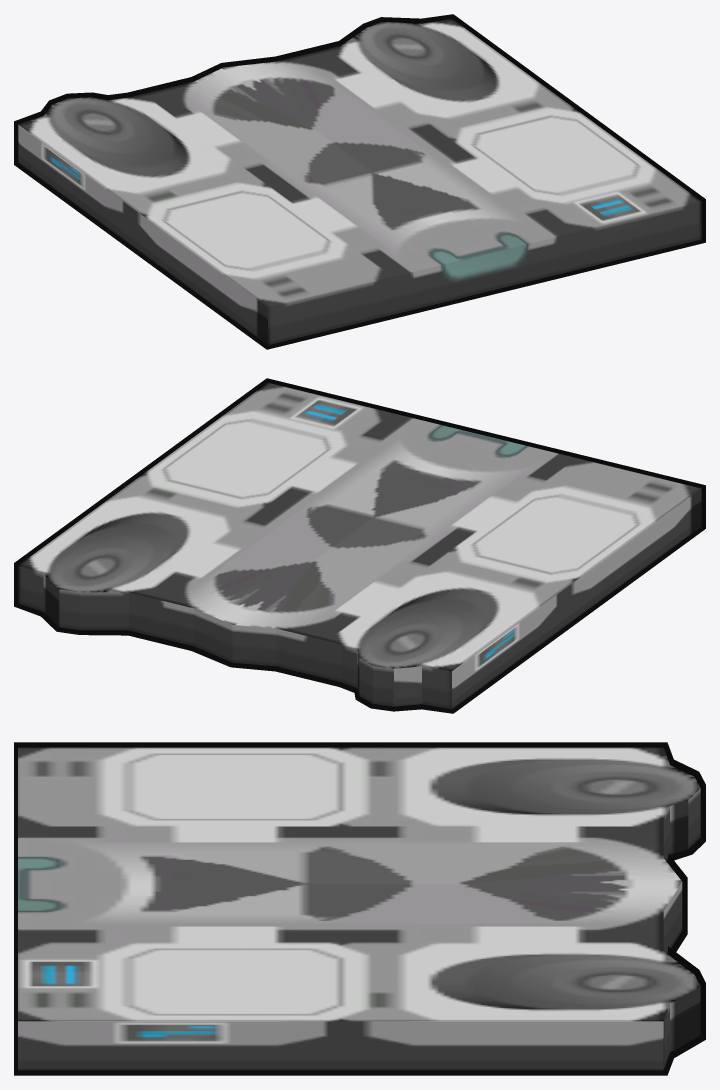
File: Building_BiosculpterPod_Things_Building_Misc_BiosculpterPod_BiosculpterPod.glb
3 views of the same model, one above another, from view 1: azimuth 30°, elevation 25°; view 2: azimuth 150°, elevation 25°; view 3: azimuth 270°, elevation 25° (orthographic). The views are drawn at different scales.
Parts seen in each view (by area): view 1: Body, Outline; view 2: Body, Outline; view 3: Body, Outline.
Part boxes in pixels (<box>): Body: <box>18,18,701,344</box>; Outline: <box>14,14,705,349</box>; Body: <box>18,383,701,709</box>; Outline: <box>14,378,705,713</box>; Body: <box>18,747,700,1070</box>; Outline: <box>14,742,705,1075</box>.
Bounding box in the file's own units: 1.49 × 0.1474 × 1.57.
Materials: 2 (1 with a texture image).
